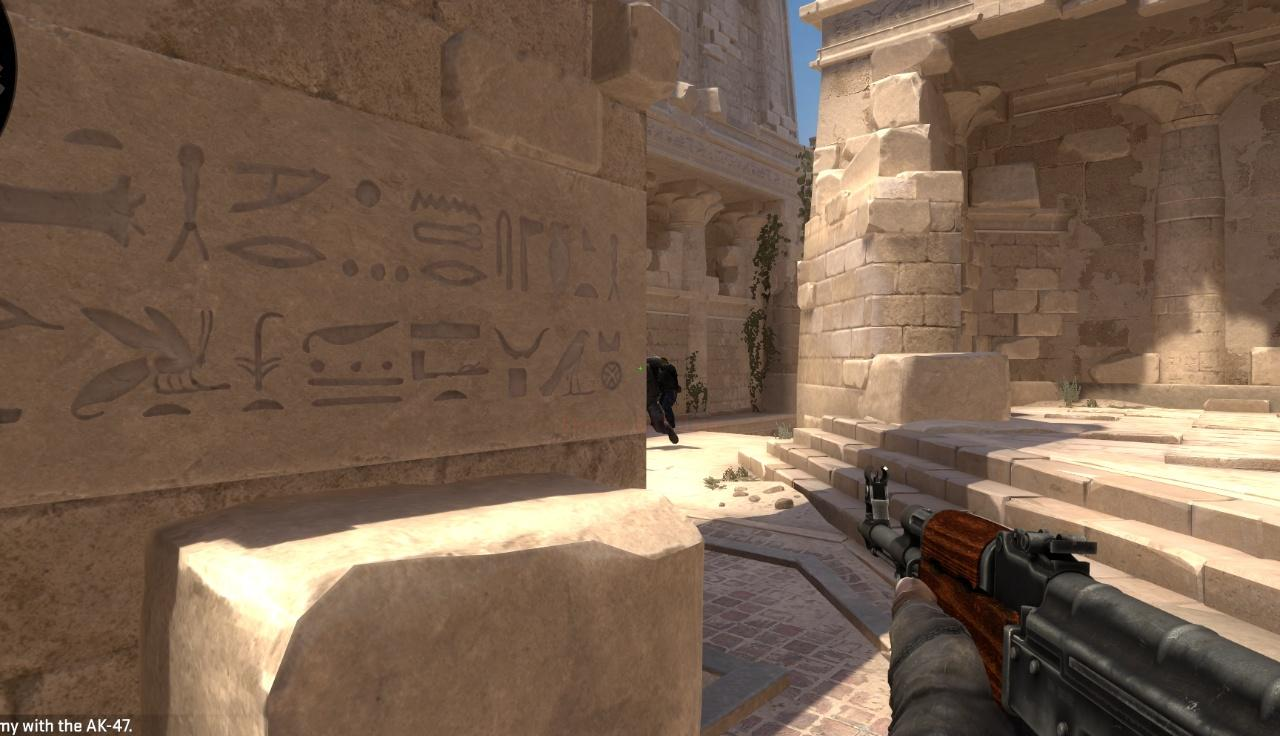ct: (657, 357, 677, 428), (646, 356, 660, 431)
cthead: (659, 356, 670, 370)
rifle: (859, 464, 1280, 736)
